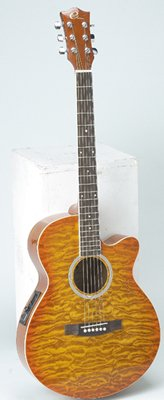guitar: (18, 7, 162, 399)
